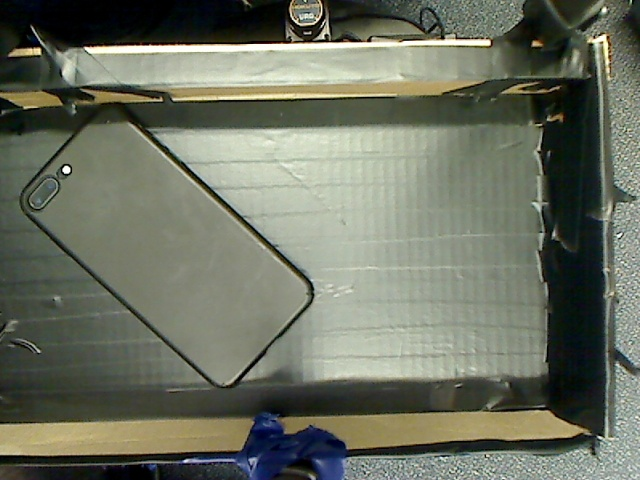phone: (13, 96, 344, 391)
